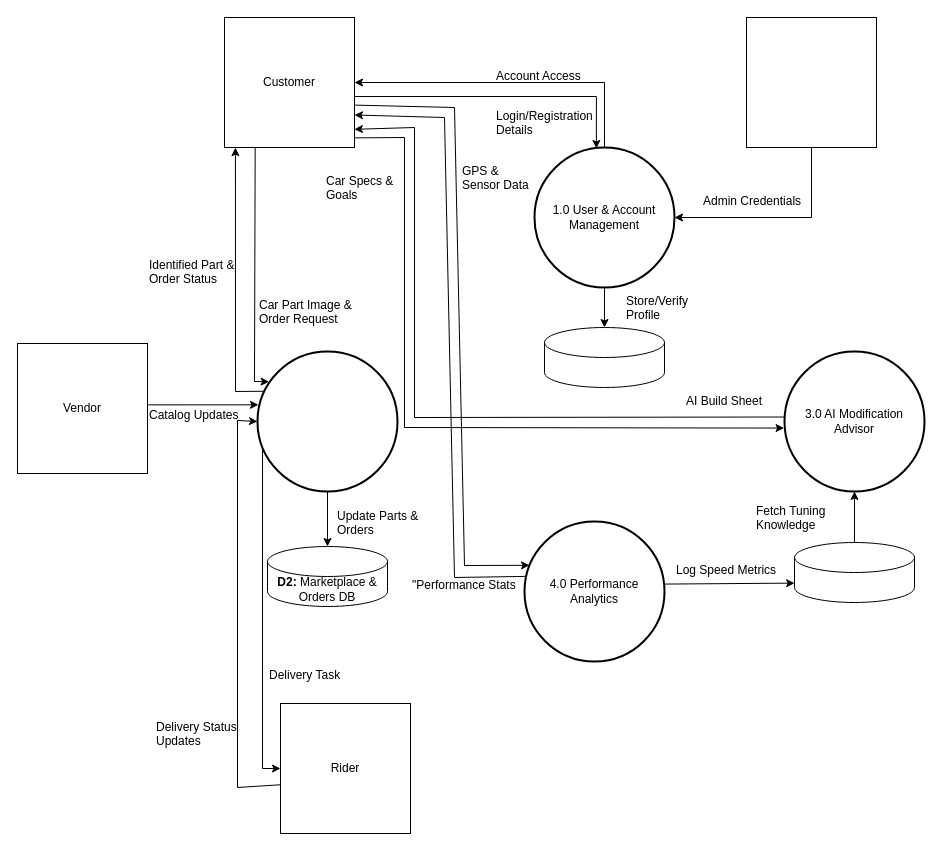
This 943x851 diagram has some shape labels left out. Each missing label, with the centre of its shape:
2.0 AI Marketplace & Orders: (x=327, y=421)
Admin: (x=811, y=82)
D1: Users DB: (x=604, y=357)
D3: Knowledge & Performance DB: (x=854, y=572)
